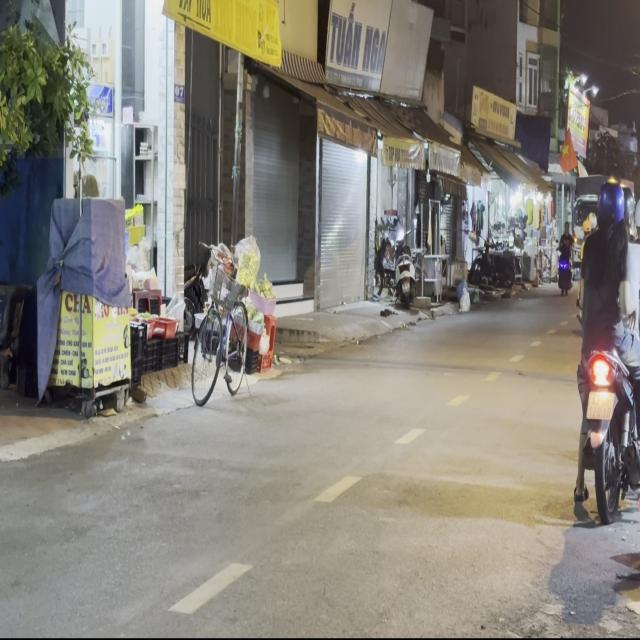helmet: (594, 179, 624, 230)
licenseplate: (567, 174, 640, 521)
nohelmet: (586, 390, 613, 418)
